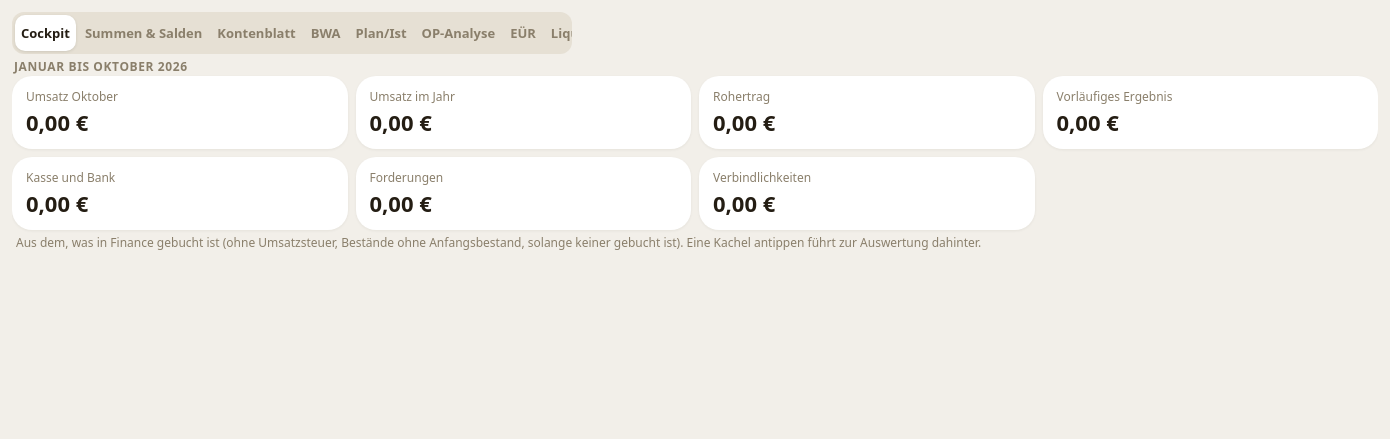
Test: FinanceAuswertungen › Summen & Salden gruppiert, ein Tipp öffnet das Kontenblatt
The width and height of the screenshot is (1390, 439).
Click the tab "Summen & Salden" at (144, 33), box top-left (79, 15), bottom-right (208, 51)
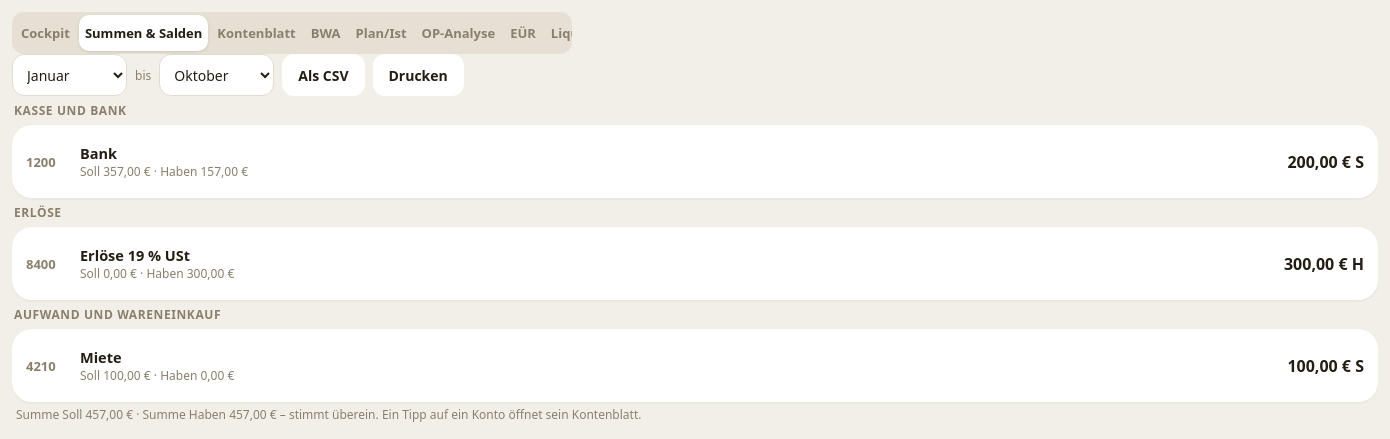
Expected: the button "Erlöse 19 % USt" reads "8400 Erlöse 19 % USt Soll 0,00 € · Haben 300,00 € 300,00 € H"
Click the button "Erlöse 19 % USt" at (135, 255), box top-left (26, 241), bottom-right (1364, 286)
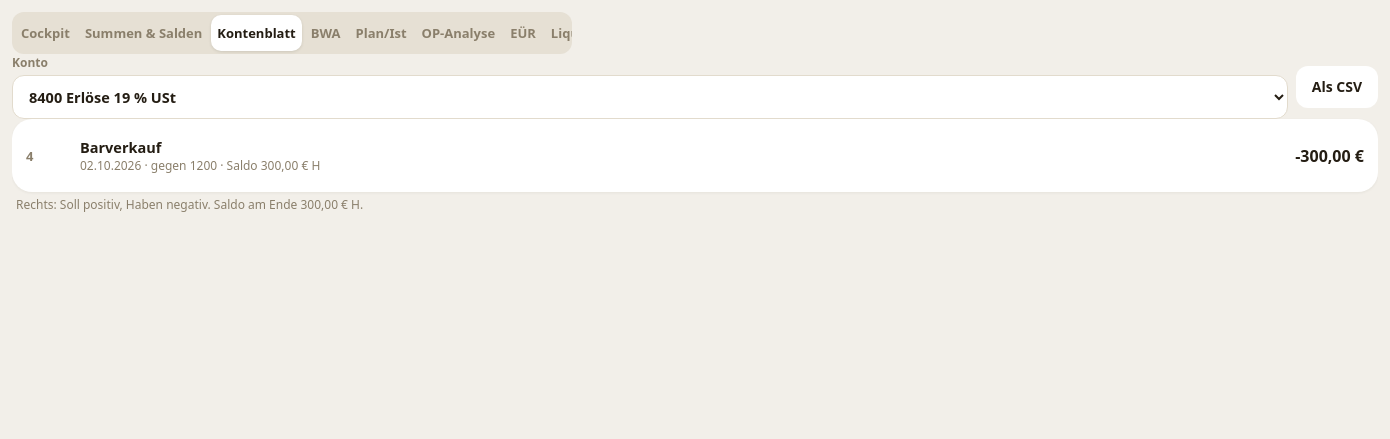
Expected: the text "Barverkauf" is shown, top-left (80, 137), bottom-right (161, 157)
